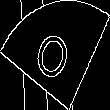O_SW: (31, 22, 79, 88)
